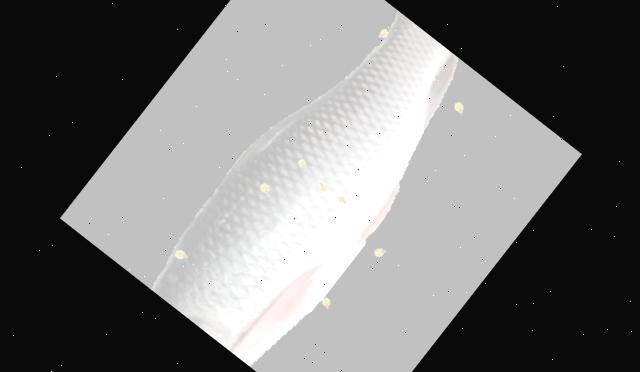Parasitic Disease: (151, 10, 456, 366), (152, 10, 456, 366)
